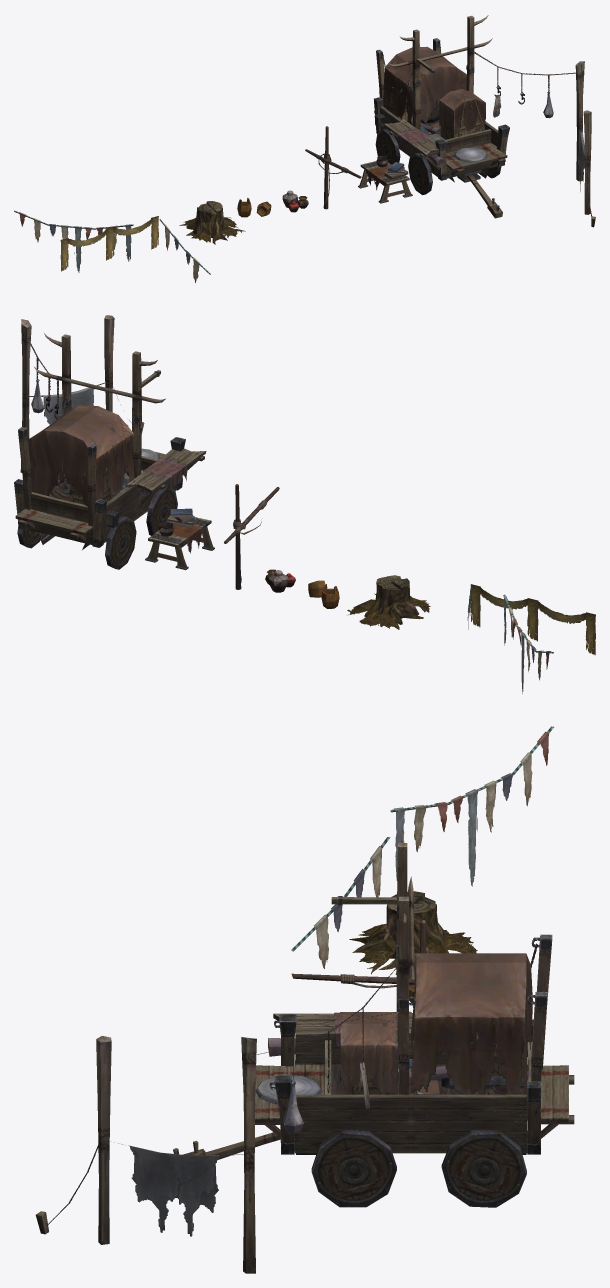
The model's file is 02_GLC_XiaoWujianBuTiao_01.FBX.
3 renders of one model, top to bottom at view 1: azimuth 30°, elevation 25°; view 2: azimuth 150°, elevation 25°; view 3: azimuth 270°, elevation 25°, orthographic. The views are drawn at different scales.
Visible parts, largest first — view 1: 02_GLC_XiaoWujianBuTiao_09, 02_GLC_XiaoWujianBuTiao_07, 02_GLC_XiaoWujianBuTiao_03, 02_GLC_XiaoWujianBuTiao_04, 02_GLC_XiaoWujianBuTiao_05, 02_GLC_XiaoWujianBuTiao_08, 02_GLC_XiaoWujianBuTiao_01, 02_GLC_XiaoWujianBuTiao_06, 02_GLC_XiaoWujianBuTiao_02; view 2: 02_GLC_XiaoWujianBuTiao_09, 02_GLC_XiaoWujianBuTiao_07, 02_GLC_XiaoWujianBuTiao_03, 02_GLC_XiaoWujianBuTiao_04, 02_GLC_XiaoWujianBuTiao_08, 02_GLC_XiaoWujianBuTiao_05, 02_GLC_XiaoWujianBuTiao_01, 02_GLC_XiaoWujianBuTiao_02; view 3: 02_GLC_XiaoWujianBuTiao_09, 02_GLC_XiaoWujianBuTiao_07, 02_GLC_XiaoWujianBuTiao_03, 02_GLC_XiaoWujianBuTiao_05, 02_GLC_XiaoWujianBuTiao_06, 02_GLC_XiaoWujianBuTiao_08.
Boxes of the visible parts, x1=… form: 02_GLC_XiaoWujianBuTiao_09: x1=374, y1=15, x2=595, y2=227; 02_GLC_XiaoWujianBuTiao_07: x1=358, y1=44, x2=553, y2=203; 02_GLC_XiaoWujianBuTiao_03: x1=179, y1=201, x2=245, y2=244; 02_GLC_XiaoWujianBuTiao_04: x1=60, y1=216, x2=158, y2=271; 02_GLC_XiaoWujianBuTiao_05: x1=14, y1=210, x2=133, y2=272; 02_GLC_XiaoWujianBuTiao_08: x1=305, y1=126, x2=361, y2=209; 02_GLC_XiaoWujianBuTiao_01: x1=237, y1=197, x2=271, y2=217; 02_GLC_XiaoWujianBuTiao_06: x1=159, y1=219, x2=210, y2=282; 02_GLC_XiaoWujianBuTiao_02: x1=282, y1=190, x2=308, y2=212; 02_GLC_XiaoWujianBuTiao_09: x1=14, y1=315, x2=206, y2=569; 02_GLC_XiaoWujianBuTiao_07: x1=27, y1=358, x2=214, y2=570; 02_GLC_XiaoWujianBuTiao_03: x1=347, y1=575, x2=430, y2=629; 02_GLC_XiaoWujianBuTiao_04: x1=470, y1=584, x2=595, y2=655; 02_GLC_XiaoWujianBuTiao_08: x1=224, y1=484, x2=279, y2=589; 02_GLC_XiaoWujianBuTiao_05: x1=503, y1=594, x2=553, y2=693; 02_GLC_XiaoWujianBuTiao_01: x1=308, y1=580, x2=339, y2=608; 02_GLC_XiaoWujianBuTiao_02: x1=265, y1=569, x2=295, y2=592; 02_GLC_XiaoWujianBuTiao_09: x1=35, y1=831, x2=574, y2=1273; 02_GLC_XiaoWujianBuTiao_07: x1=255, y1=943, x2=537, y2=1132; 02_GLC_XiaoWujianBuTiao_03: x1=349, y1=891, x2=477, y2=974; 02_GLC_XiaoWujianBuTiao_05: x1=390, y1=726, x2=554, y2=886; 02_GLC_XiaoWujianBuTiao_06: x1=291, y1=837, x2=390, y2=968; 02_GLC_XiaoWujianBuTiao_08: x1=291, y1=920, x2=426, y2=988.
Size of the model in its own units: 1738 by 613 by 820.
